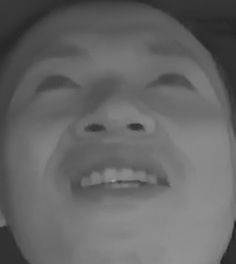eye: (139, 65, 200, 98), (33, 68, 84, 100)
mouth: (64, 148, 176, 205)
